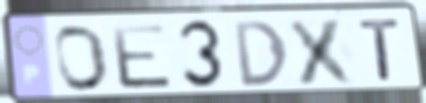3: (175, 18, 230, 93)
D: (230, 18, 291, 89)
E: (108, 21, 177, 91)
O: (52, 23, 112, 95)
T: (356, 16, 404, 82)
X: (284, 15, 362, 87)
